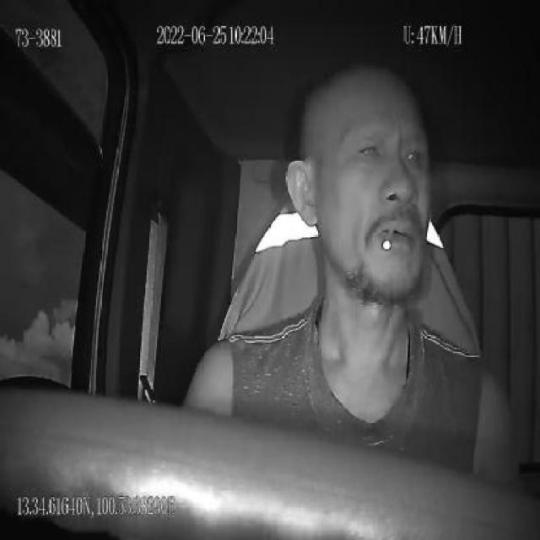smoking: (381, 229, 394, 253)
